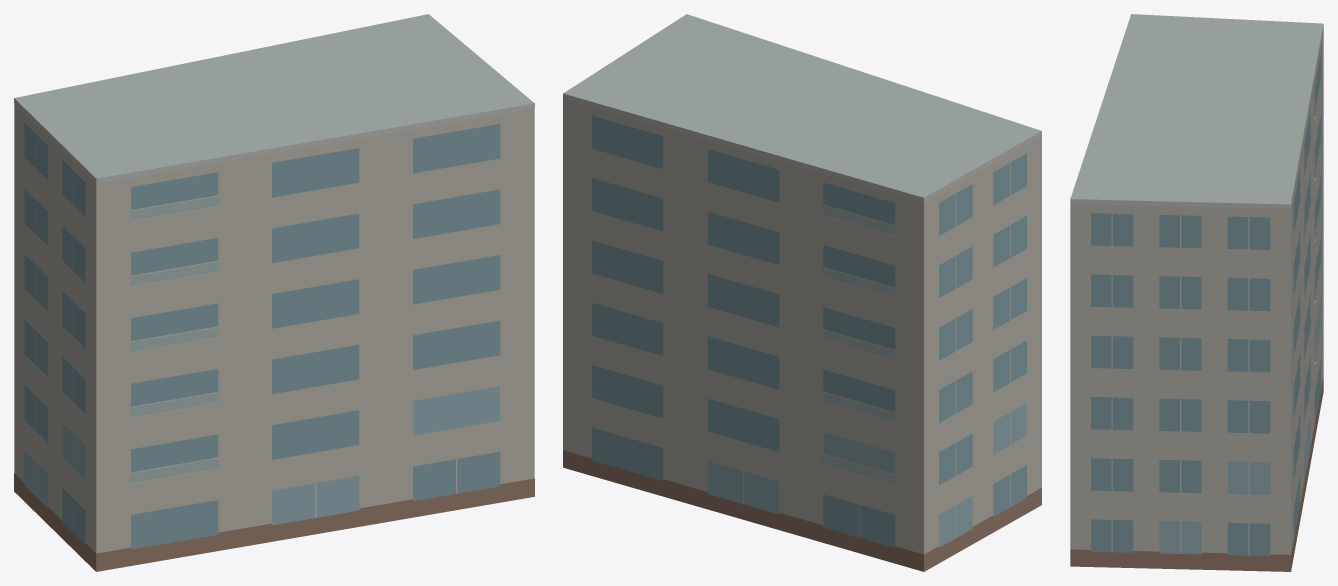
The model's file is survey-upis-32561144.glb.
3 views of the same model, side by side, from view 1: azimuth 30°, elevation 25°; view 2: azimuth 150°, elevation 25°; view 3: azimuth 270°, elevation 25° (orthographic). The views are drawn at different scales.
Parts seen in each view (by area): view 1: survey-upis-32561144.tmp; view 2: survey-upis-32561144.tmp; view 3: survey-upis-32561144.tmp.
Boxes of the visible parts, bbox=[...] form: survey-upis-32561144.tmp: bbox=[14, 14, 534, 571]; survey-upis-32561144.tmp: bbox=[563, 14, 1041, 571]; survey-upis-32561144.tmp: bbox=[1070, 14, 1323, 571].
Size of the model in its own units: 20.36 by 18.3 by 11.45.
